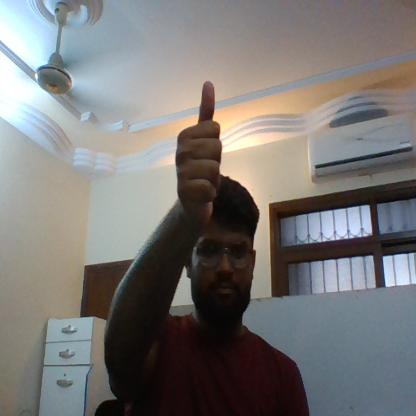thumbs-up: (175, 80, 230, 216)
